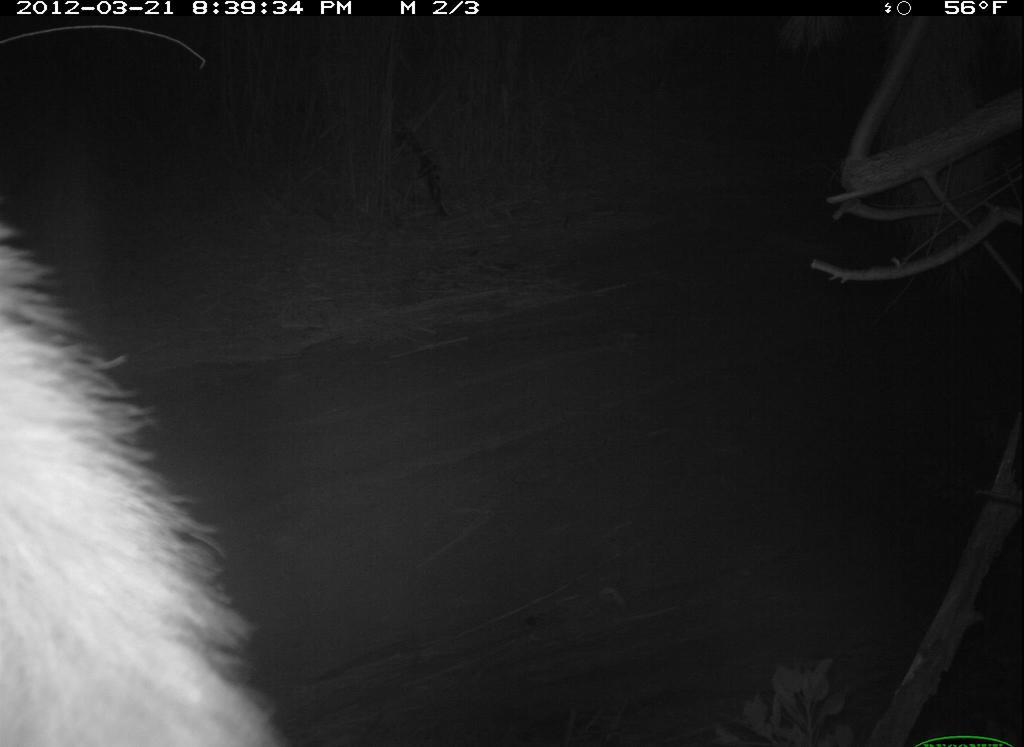coyote: (1, 198, 317, 747)
